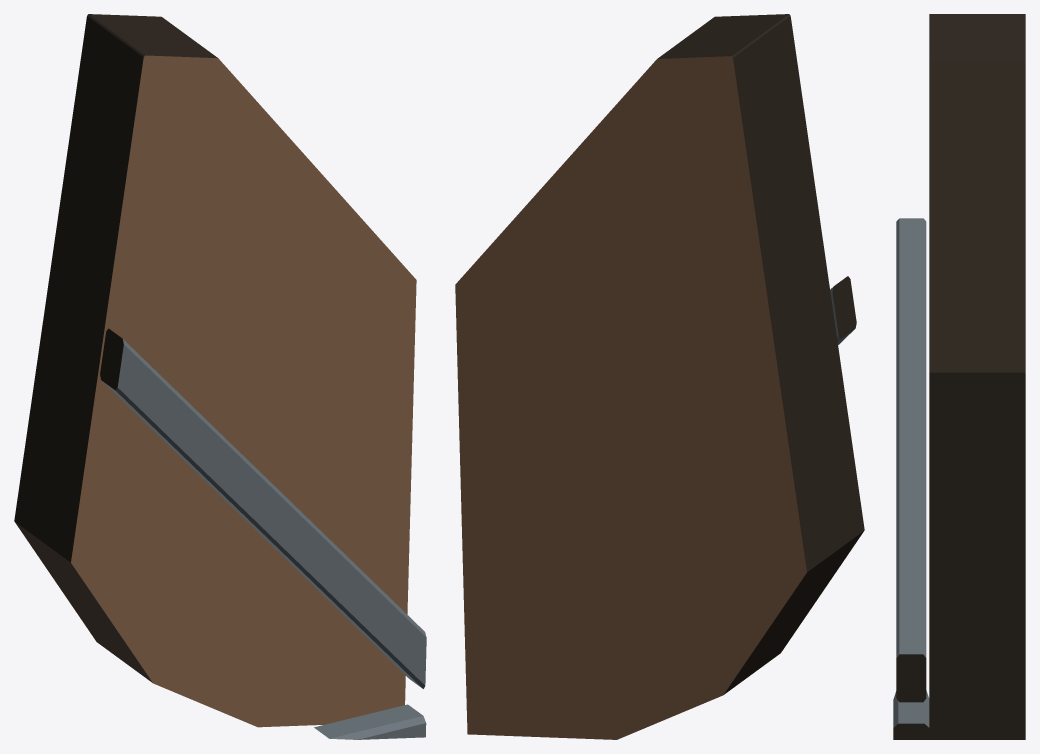
File: SM_DoorShard_03_34.fbx
3 renders of one model, left to right at view 1: azimuth 30°, elevation 25°; view 2: azimuth 150°, elevation 25°; view 3: azimuth 270°, elevation 25°, orthographic. The views are drawn at different scales.
Visible parts, largest first — view 1: SM_DoorShard_03_34; view 2: SM_DoorShard_03_34; view 3: SM_DoorShard_03_34.
Boxes of the visible parts, left/top/right/bottom form: SM_DoorShard_03_34: left=14, top=14, right=426, bottom=739; SM_DoorShard_03_34: left=455, top=14, right=864, bottom=739; SM_DoorShard_03_34: left=893, top=14, right=1025, bottom=739.
Size of the model in its own units: 56.35 by 22 by 114.
